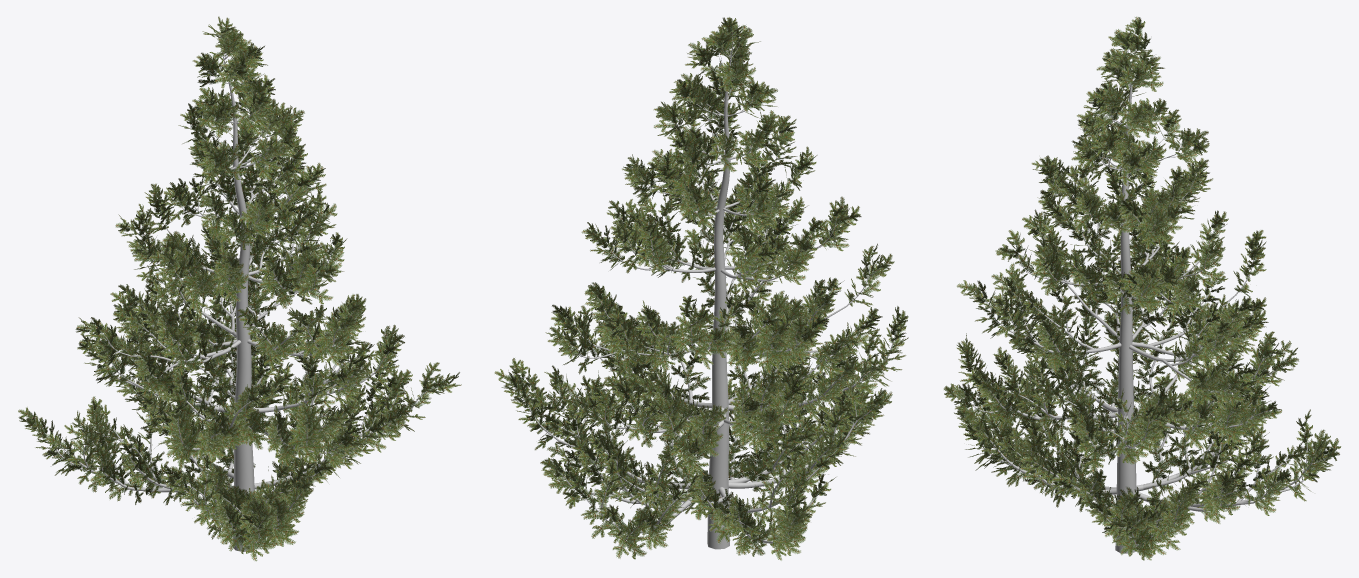
Rendered from PineTree.fbx.
3 renders of one model, left to right at view 1: azimuth 30°, elevation 25°; view 2: azimuth 150°, elevation 25°; view 3: azimuth 270°, elevation 25°, orthographic. The views are drawn at different scales.
Visible parts, largest first — view 1: leaves, tree; view 2: leaves, tree; view 3: leaves, tree.
Boxes of the visible parts, bbox=[...] form: leaves: bbox=[18, 16, 461, 561]; tree: bbox=[34, 33, 446, 551]; leaves: bbox=[494, 17, 908, 560]; tree: bbox=[510, 31, 897, 549]; leaves: bbox=[943, 16, 1341, 560]; tree: bbox=[961, 33, 1327, 553].
Bounding box in the file's own units: 11.22 × 15.39 × 10.75.
